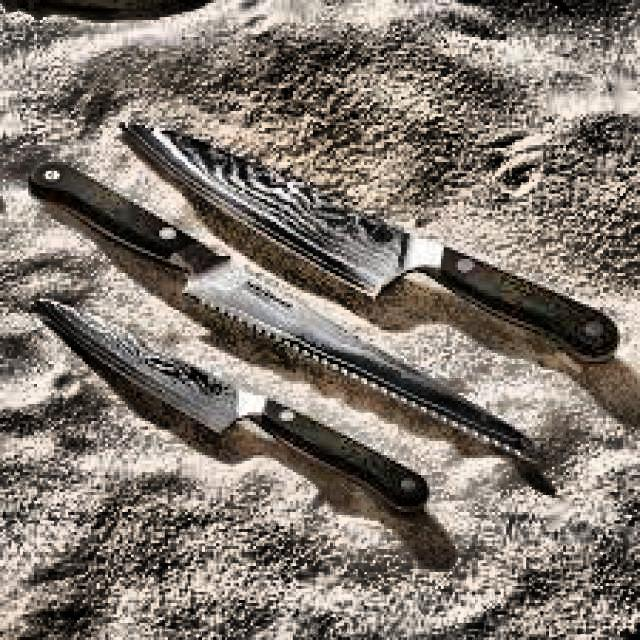knife: (26, 152, 558, 476), (116, 116, 626, 367), (29, 286, 440, 526)
